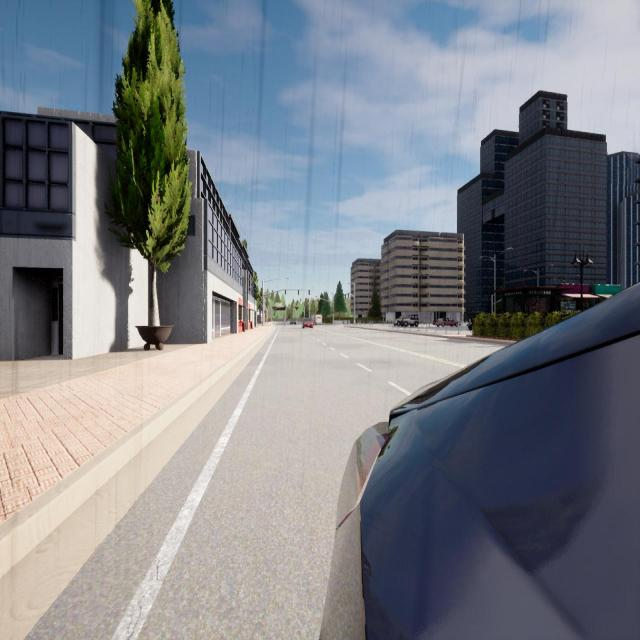Vehicle: (321, 284, 639, 638), (394, 314, 419, 327), (437, 318, 457, 327), (303, 319, 313, 328), (468, 313, 473, 330), (290, 319, 296, 325)
traffic_light: (332, 311, 334, 314), (285, 290, 286, 295), (298, 290, 299, 295), (309, 290, 310, 295), (345, 295, 346, 299), (300, 298, 301, 302), (308, 298, 309, 302), (348, 294, 349, 298), (318, 299, 318, 302)
